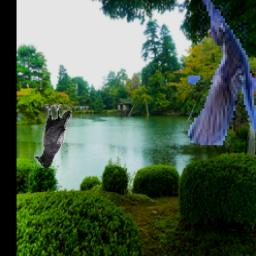Crow: (35, 104, 73, 168)
Swallow: (189, 0, 256, 149)
